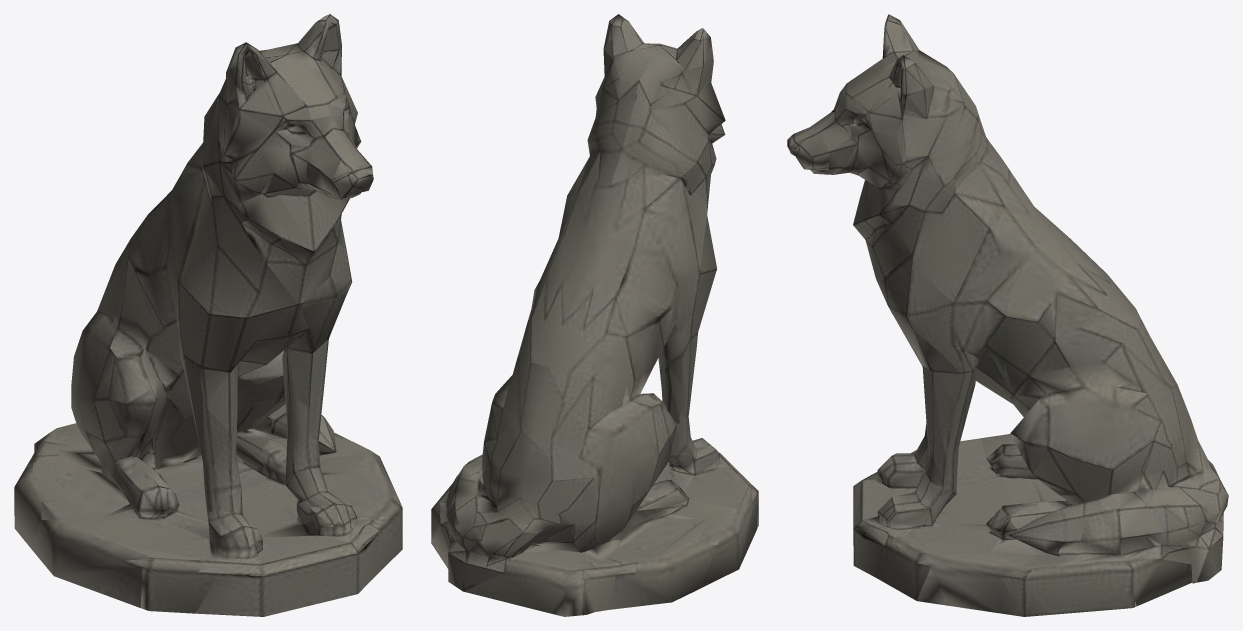
Rendered from guardian-statue.glb.
3 renders of one model, left to right at view 1: azimuth 30°, elevation 25°; view 2: azimuth 150°, elevation 25°; view 3: azimuth 270°, elevation 25°, orthographic. The views are drawn at different scales.
Parts seen in each view (by area): view 1: meshy_guardian; view 2: meshy_guardian; view 3: meshy_guardian.
Boxes of the visible parts, x1,y1,x2,y2 form: meshy_guardian: (14, 14, 402, 616); meshy_guardian: (431, 14, 758, 616); meshy_guardian: (787, 14, 1228, 616).
Size of the model in its own units: 1.16 by 1.9 by 1.49.
Materials: 1 (1 with a texture image).
